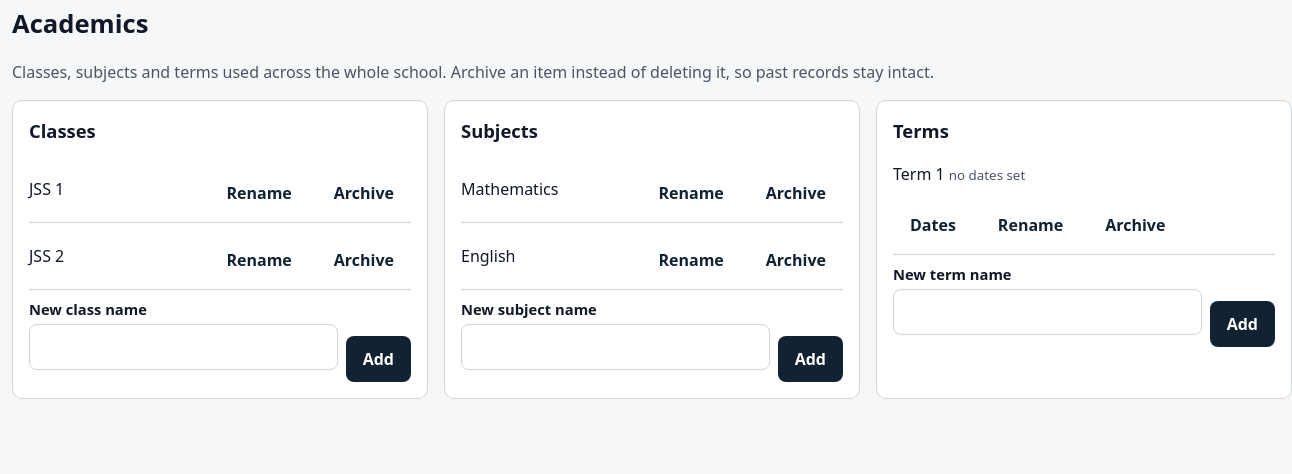
Scenario: Academics › blocks duplicates case-insensitively and writes nothing
Expected: the text "JSS 2" is shown, [29,244,64,268]
Type "jss 1" into the field labelled "New class name".
click(183, 347); type("jss 1")  # box [29,324,338,370]
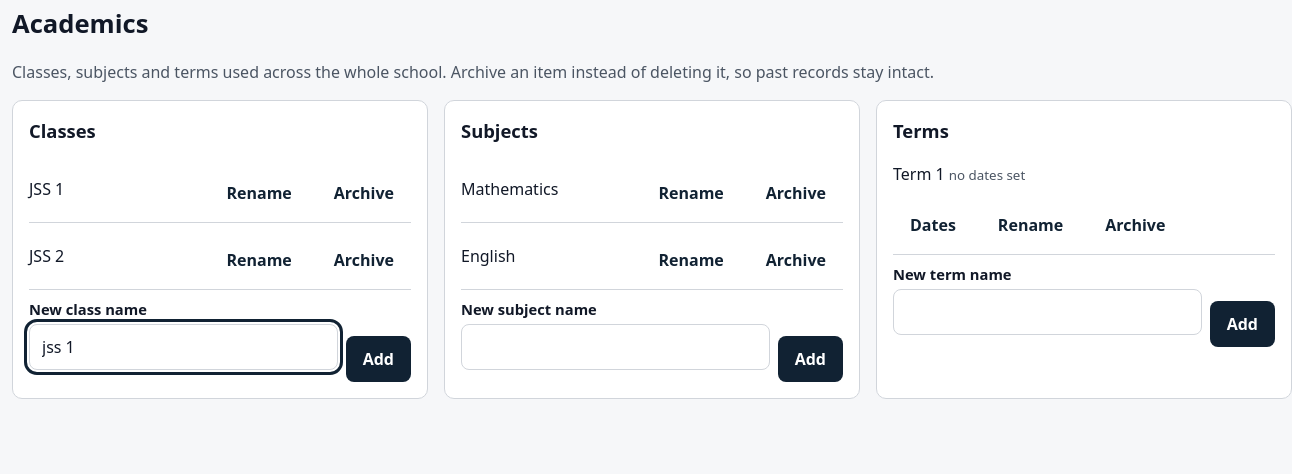
Click the button "Add" below "New class name".
click(378, 359)  # box [346,336,411,382]
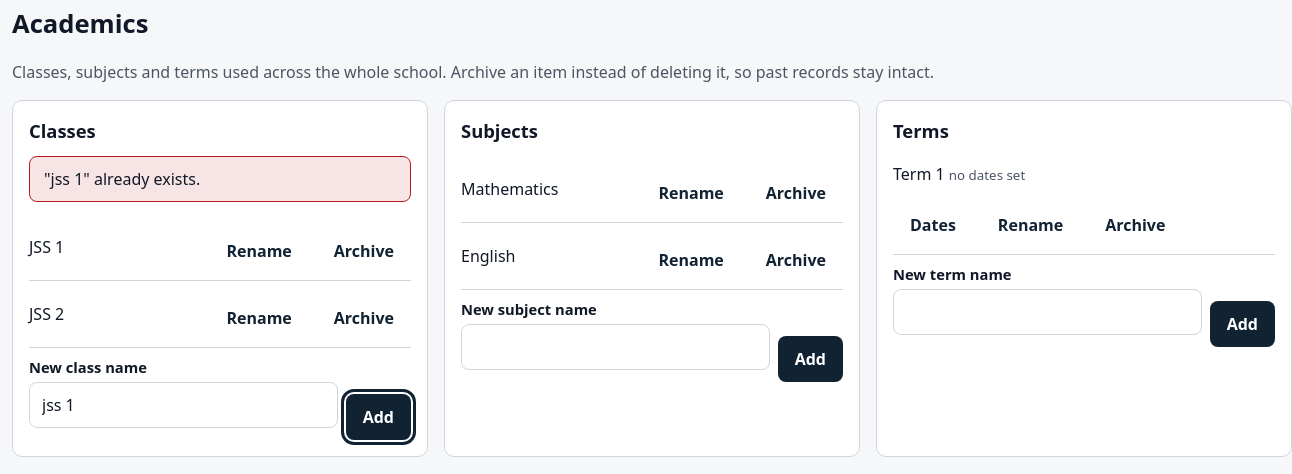
Expected: the message shows "already exists", [44,168,200,190]
